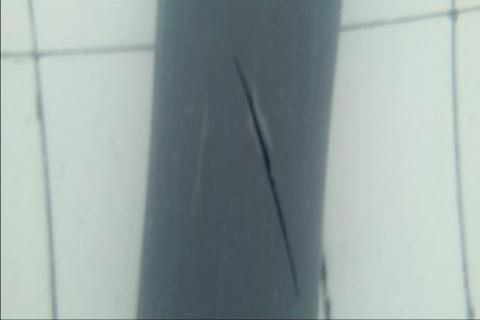keretakan: (230, 53, 301, 300)
